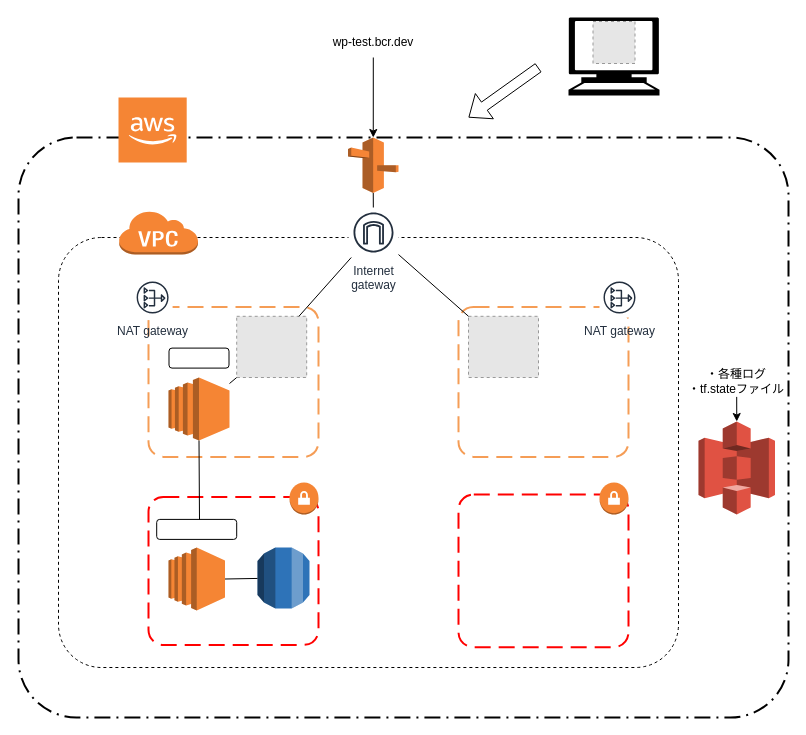
The diagram is 806 pixels wide and 735 high, and some of its shapes have lost their labels. Grey dashed boxes stand in for pictures. The shapes that lost their labels are listed below. From the top down, each one's box as (x1, y1, x2, y2) in pixels, then its label:
(168, 347, 229, 368): Bastion
(156, 518, 237, 539): wordpress
